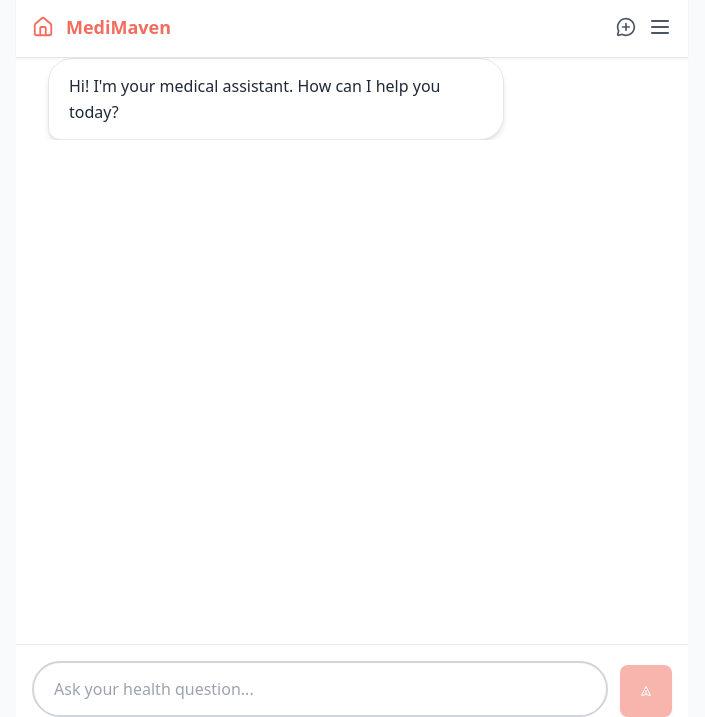
MediMaven Medical RAG Assistant › maintains conversation context
The image size is (705, 717).
# First message
Step 1. Type "I have a patient with hypertension" into the text box with placeholder "Ask your health question..." → (320, 689), box [32,661,608,716]
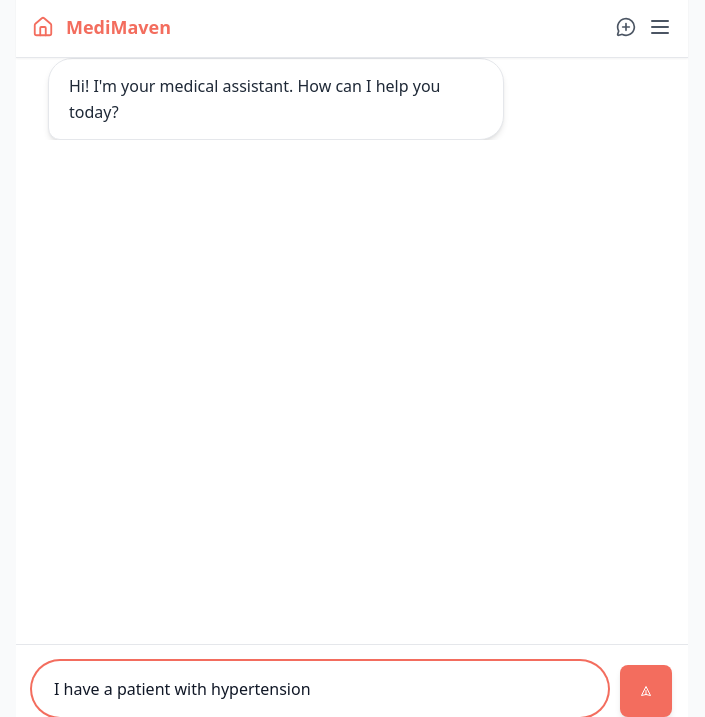
Step 2. Click the button named "Send message" → (646, 691), box [620,665,672,716]
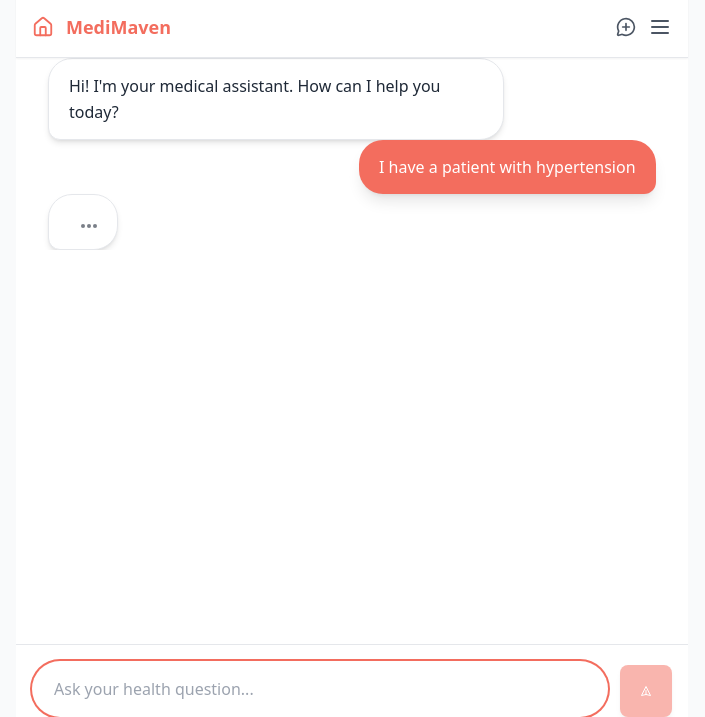
expect the text "I have a patient with hypertension" is shown: met, box [379,154,636,180]
# Follow-up with context
Step 3. Type "What if they also have diabetes?" into the text box with placeholder "Ask your health question..." → (320, 689), box [32,661,608,716]
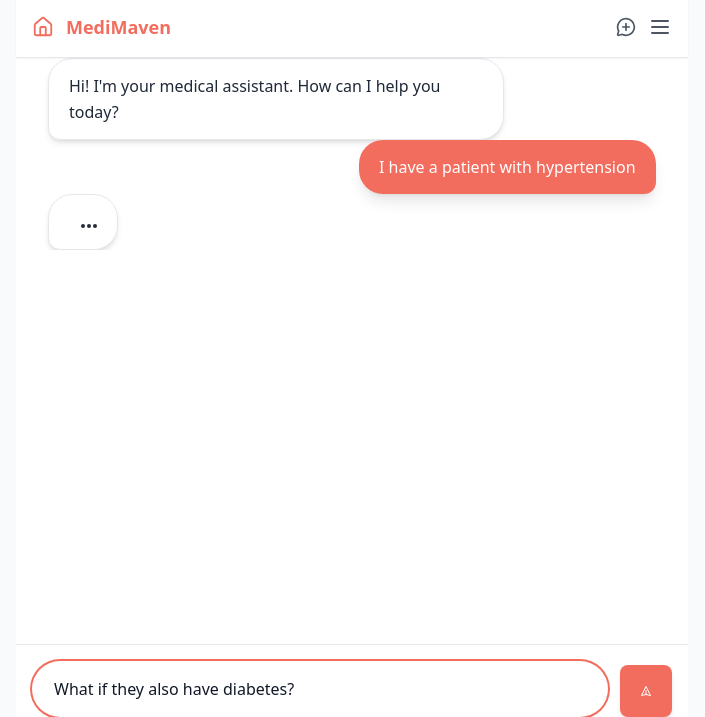
Step 4. Click the button named "Send message" → (646, 691), box [620,665,672,716]
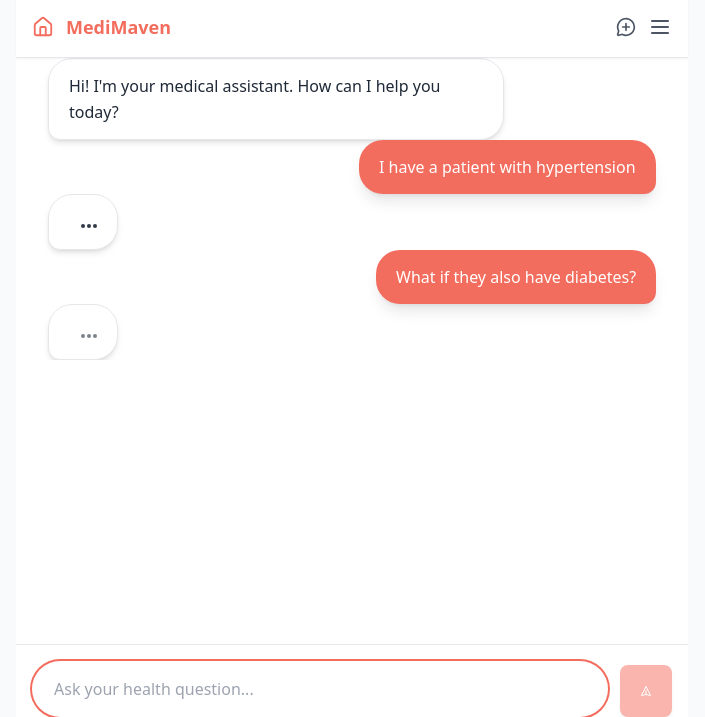
expect the text "What if they also have diabetes?" is shown: met, box [396,264,636,290]
